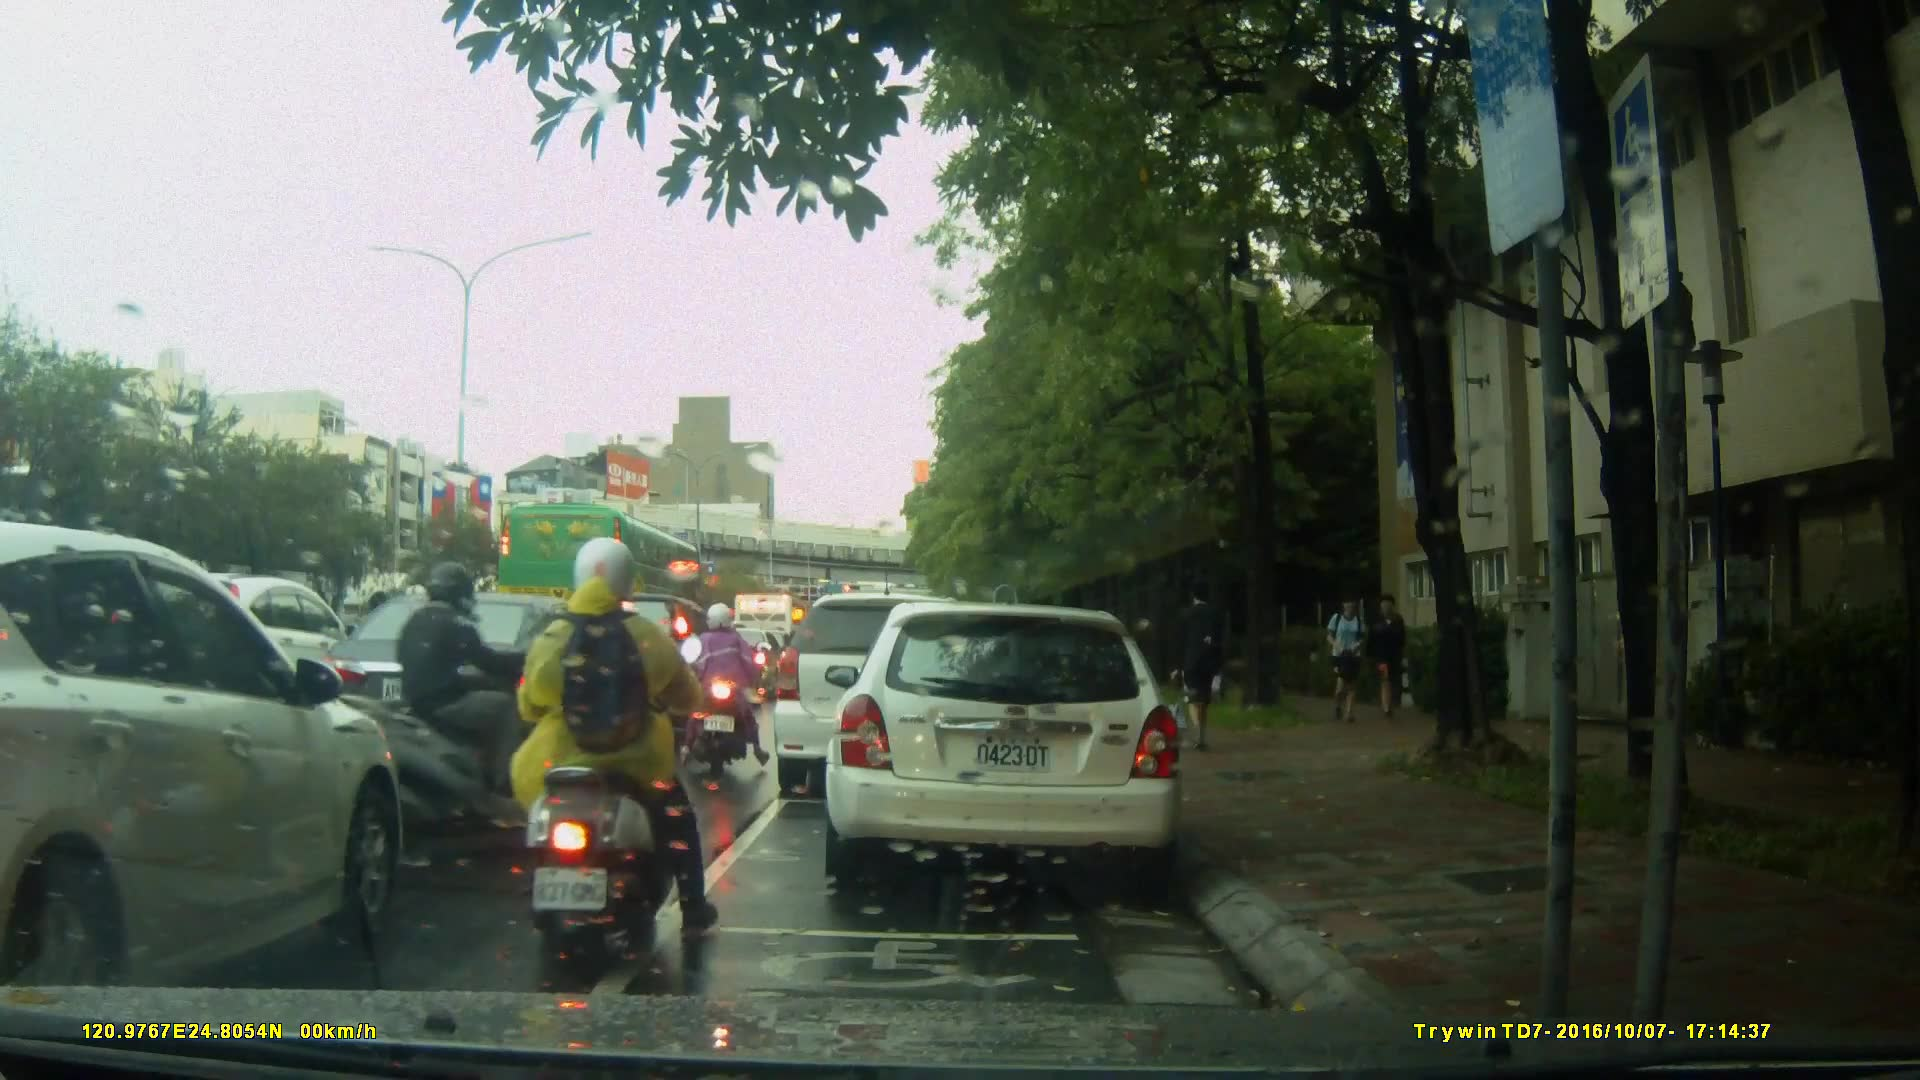pedestrian: (1169, 579, 1230, 755), (1324, 587, 1378, 731), (1365, 589, 1404, 726)
rider: (500, 534, 719, 960), (359, 569, 584, 858), (684, 597, 776, 775)
vehicle: (1, 519, 409, 985), (831, 592, 1196, 897), (305, 593, 658, 805), (770, 592, 999, 800), (494, 502, 708, 641)
